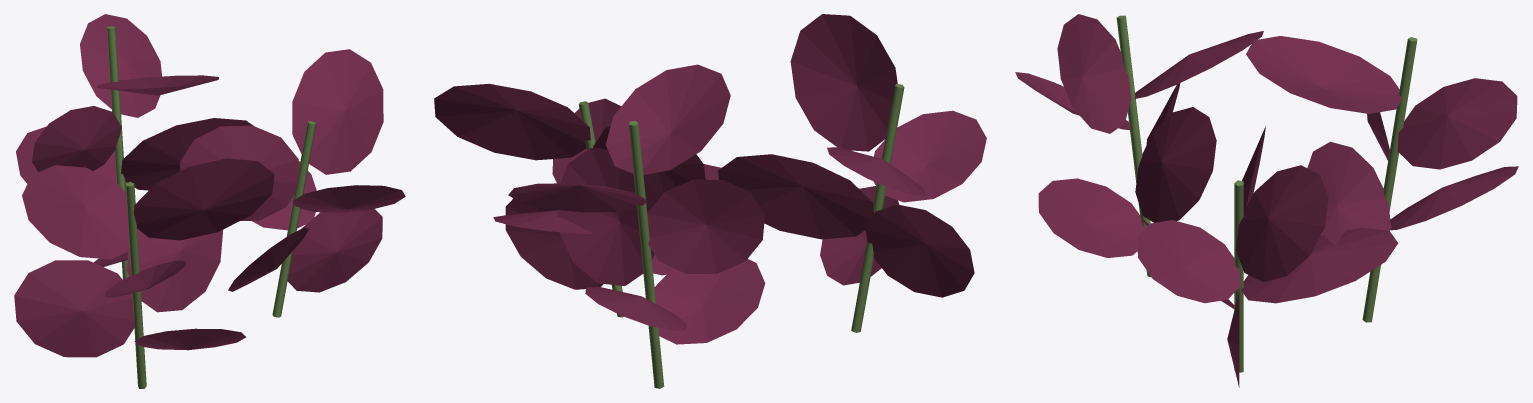
File: alternanthera-dentata-rubiginosa.glb
3 renders of one model, left to right at view 1: azimuth 30°, elevation 25°; view 2: azimuth 150°, elevation 25°; view 3: azimuth 270°, elevation 25°, orthographic. The views are drawn at different scales.
Parts seen in each view (by area): view 1: Species leaves, Species stems; view 2: Species leaves, Species stems; view 3: Species leaves, Species stems.
Part boxes in pixels (left/top/right/bottom): Species leaves: left=14, top=14, right=405, bottom=357; Species stems: left=106, top=26, right=316, bottom=388; Species leaves: left=434, top=14, right=986, bottom=344; Species stems: left=578, top=84, right=904, bottom=388; Species leaves: left=1015, top=14, right=1518, bottom=387; Species stems: left=1116, top=15, right=1417, bottom=372.
Bounding box in the file's own units: 0.425 × 0.2413 × 0.3873.
